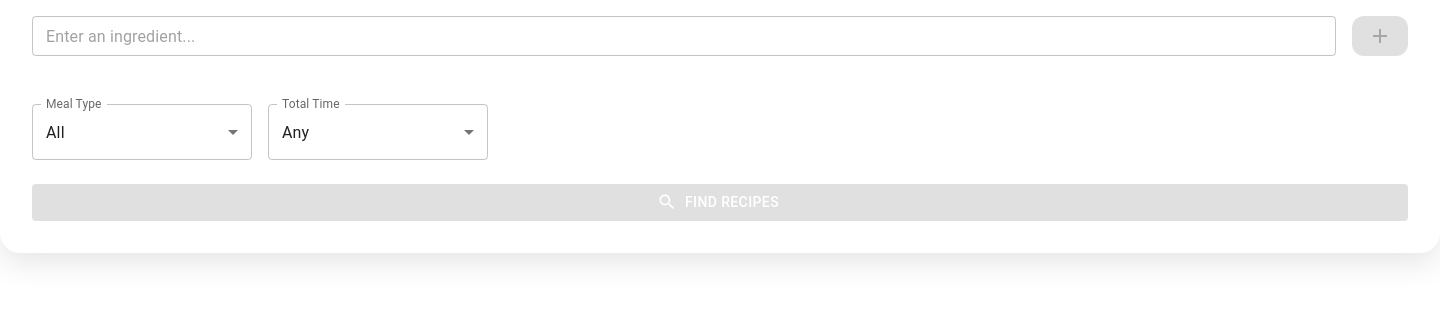
Test case: RecipePredictionForm › adds an ingredient when clicking the add button
In the field with placeholder "Enter an ingredient...": (684, 36) [32,16,1336,56], type "chicken"
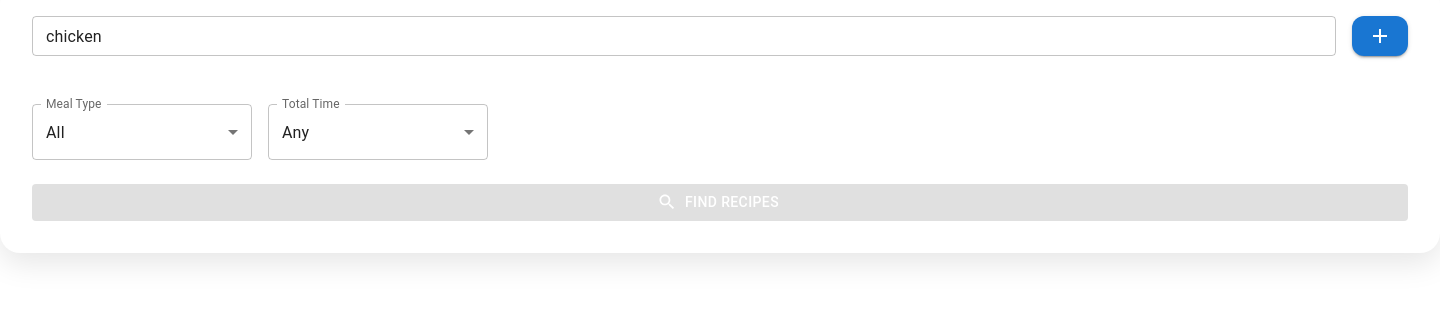
Click the button named "add ingredient": (1380, 36) [1352,16,1408,56]
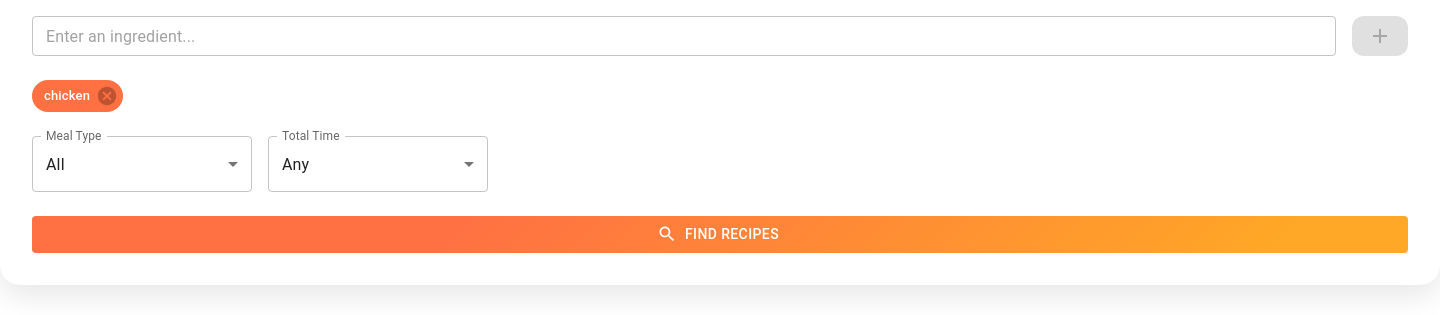
Expected: the text "chicken" is shown, [44,88,90,103]
